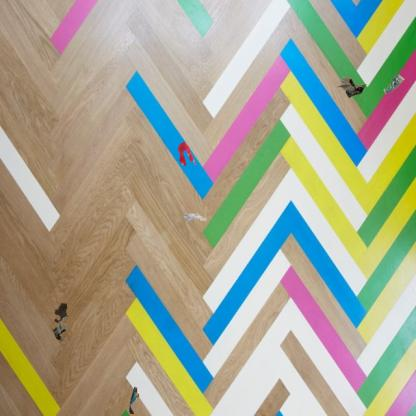dirty: (335, 75, 368, 100), (51, 319, 69, 344), (127, 386, 141, 416), (384, 73, 404, 94), (182, 212, 207, 224)
liquid: (176, 140, 198, 167), (53, 302, 70, 324)
